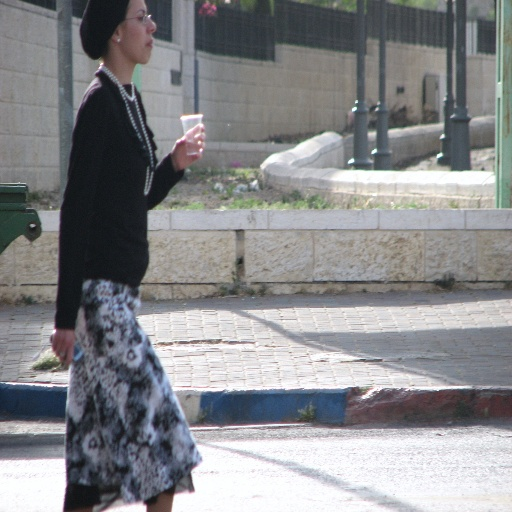hand: (171, 121, 206, 174), (49, 326, 75, 369)
